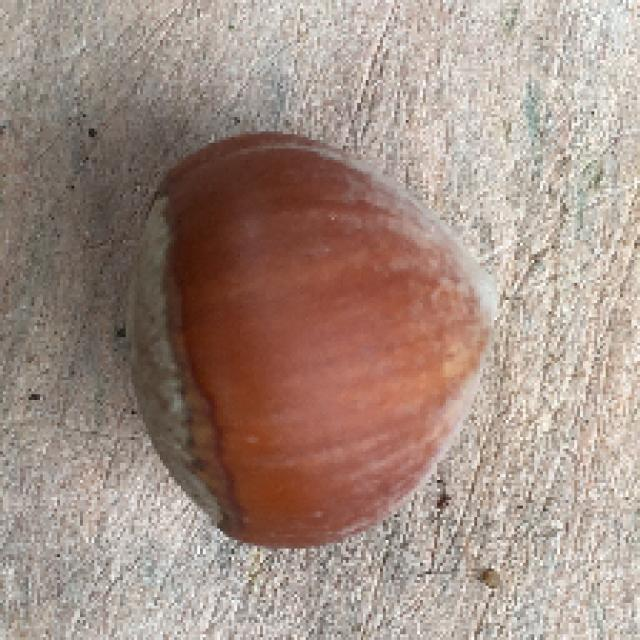qualityHazelnut: (124, 128, 504, 549)
